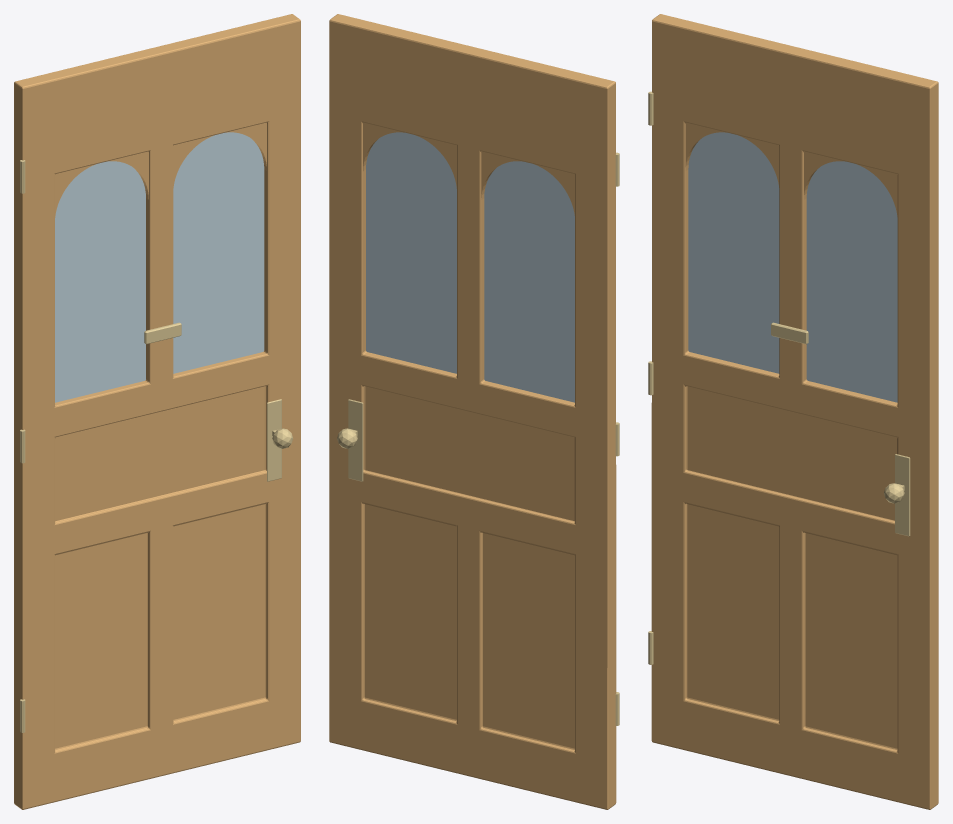
The model's file is door_leaf_front_e.glb.
The picture shows the model from 3 angles, left to right: view 1: azimuth 30°, elevation 25°; view 2: azimuth 150°, elevation 25°; view 3: azimuth 330°, elevation 25°; orthographic projection.
Parts seen in each view (by area): view 1: door_leaf_front_e_door_e, door_leaf_front_e_glass, door_leaf_front_e_brass; view 2: door_leaf_front_e_door_e, door_leaf_front_e_glass, door_leaf_front_e_brass; view 3: door_leaf_front_e_door_e, door_leaf_front_e_glass, door_leaf_front_e_brass.
Part boxes in pixels (box(x1,y1,x2,y2)): door_leaf_front_e_door_e: box(14, 14, 300, 809); door_leaf_front_e_glass: box(55, 132, 264, 402); door_leaf_front_e_brass: box(20, 160, 293, 732); door_leaf_front_e_door_e: box(329, 14, 616, 809); door_leaf_front_e_glass: box(366, 132, 574, 402); door_leaf_front_e_brass: box(337, 152, 619, 725); door_leaf_front_e_door_e: box(651, 14, 938, 809); door_leaf_front_e_glass: box(688, 132, 897, 402); door_leaf_front_e_brass: box(648, 91, 910, 664).
Size of the model in its own units: 0.928 by 2.28 by 0.21.
